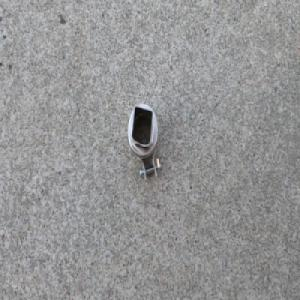MetalPart: (126, 103, 161, 184)
